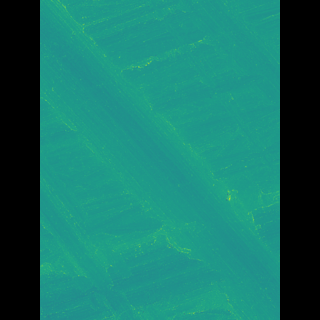Loch: (69, 0, 251, 319), (70, 152, 167, 319), (168, 0, 249, 115)
